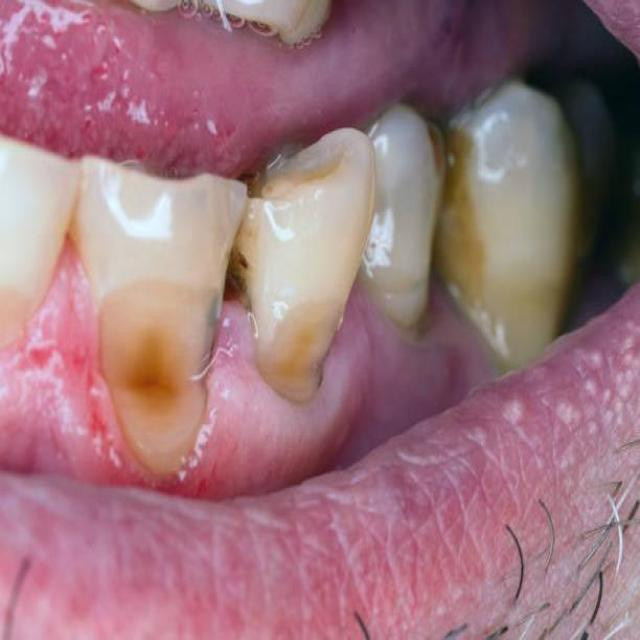caries: (102, 264, 214, 462), (260, 281, 340, 414)
